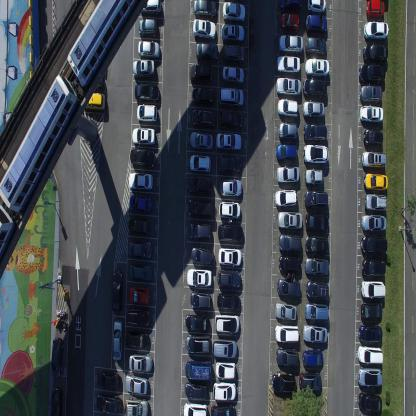car: (358, 63, 386, 85), (96, 392, 122, 415), (357, 365, 383, 388), (271, 374, 297, 396), (187, 196, 213, 218), (130, 146, 156, 168), (360, 235, 388, 255), (111, 268, 123, 314), (304, 235, 329, 257), (304, 258, 329, 280), (219, 86, 244, 108), (302, 76, 327, 98), (186, 267, 212, 288), (185, 360, 212, 380), (275, 348, 299, 370), (128, 191, 152, 213), (128, 237, 152, 259), (219, 108, 243, 130), (217, 268, 241, 290), (212, 337, 236, 359), (96, 368, 120, 390), (51, 335, 63, 379), (192, 85, 216, 107), (79, 70, 103, 92), (304, 142, 328, 164), (358, 390, 382, 412), (303, 325, 328, 346), (276, 278, 301, 299), (187, 174, 212, 195), (128, 170, 153, 191), (191, 108, 216, 129), (363, 43, 388, 64), (214, 313, 240, 333), (360, 279, 386, 299), (357, 345, 383, 365), (306, 280, 329, 302), (222, 0, 245, 22), (305, 213, 329, 234), (278, 209, 302, 230), (189, 130, 213, 151), (212, 380, 236, 401), (186, 334, 210, 355), (189, 62, 213, 83), (192, 19, 216, 40), (304, 189, 328, 210), (274, 324, 299, 344), (218, 223, 243, 243), (278, 34, 303, 54), (364, 20, 389, 40), (216, 132, 242, 151), (134, 83, 160, 102), (222, 64, 244, 86), (125, 375, 148, 396), (132, 126, 156, 146), (218, 246, 242, 266), (216, 292, 240, 312), (126, 307, 150, 327), (128, 353, 152, 373), (184, 380, 208, 400), (185, 312, 209, 332), (193, 0, 217, 20), (303, 122, 327, 142), (276, 54, 300, 74), (360, 104, 384, 124), (362, 258, 386, 278), (358, 323, 382, 343), (276, 77, 301, 96), (361, 150, 386, 169), (364, 173, 389, 192), (112, 318, 123, 361), (188, 153, 210, 174), (277, 98, 299, 119), (305, 13, 327, 34), (362, 127, 384, 148), (274, 302, 297, 322), (127, 214, 150, 234), (129, 262, 152, 282), (196, 42, 219, 62), (137, 39, 160, 59), (302, 100, 325, 120), (359, 84, 382, 104), (364, 192, 387, 212), (278, 233, 302, 252), (125, 329, 149, 348), (190, 246, 214, 265), (220, 23, 244, 42), (124, 397, 149, 415), (304, 58, 329, 76), (218, 154, 240, 174), (220, 178, 242, 198), (129, 286, 151, 306), (190, 290, 212, 310), (276, 142, 298, 162), (305, 36, 327, 56), (360, 301, 382, 321), (278, 255, 301, 274), (189, 221, 212, 240), (132, 60, 155, 79), (274, 188, 297, 207), (277, 165, 300, 184), (305, 304, 329, 322), (361, 214, 386, 231), (223, 43, 244, 63), (136, 103, 158, 122), (219, 200, 241, 219), (84, 92, 106, 111), (299, 374, 322, 392), (138, 18, 158, 38), (214, 360, 235, 379), (280, 13, 300, 32), (303, 351, 324, 369), (140, 0, 162, 17), (305, 168, 324, 187), (51, 386, 63, 416), (278, 122, 298, 140), (365, 0, 384, 18), (183, 402, 207, 416), (278, 0, 301, 14), (210, 404, 236, 415), (307, 0, 326, 14)
